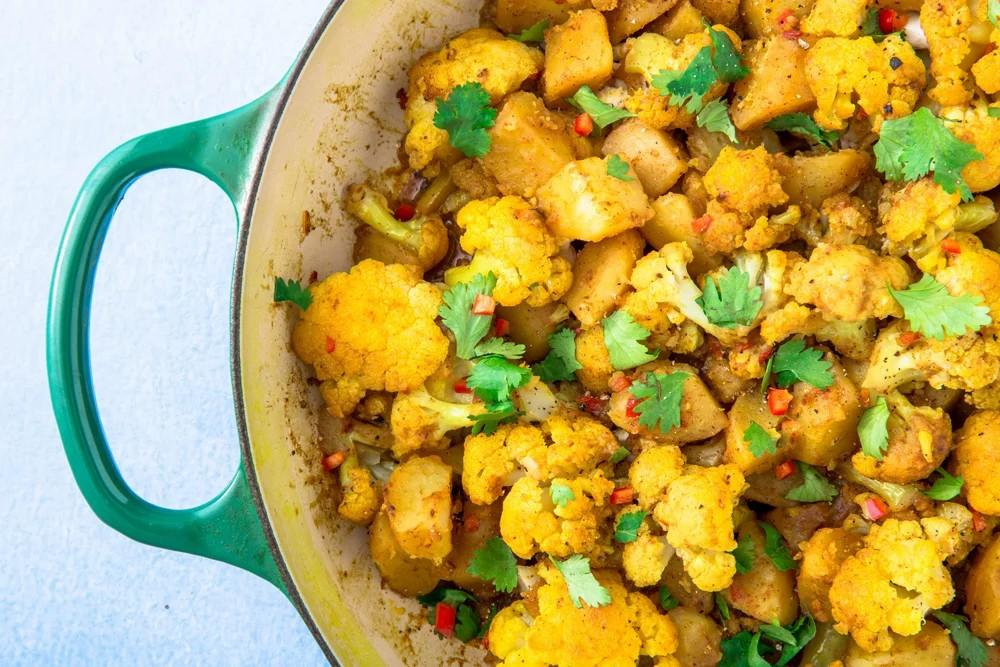AlooGobi: (292, 0, 1000, 667)
